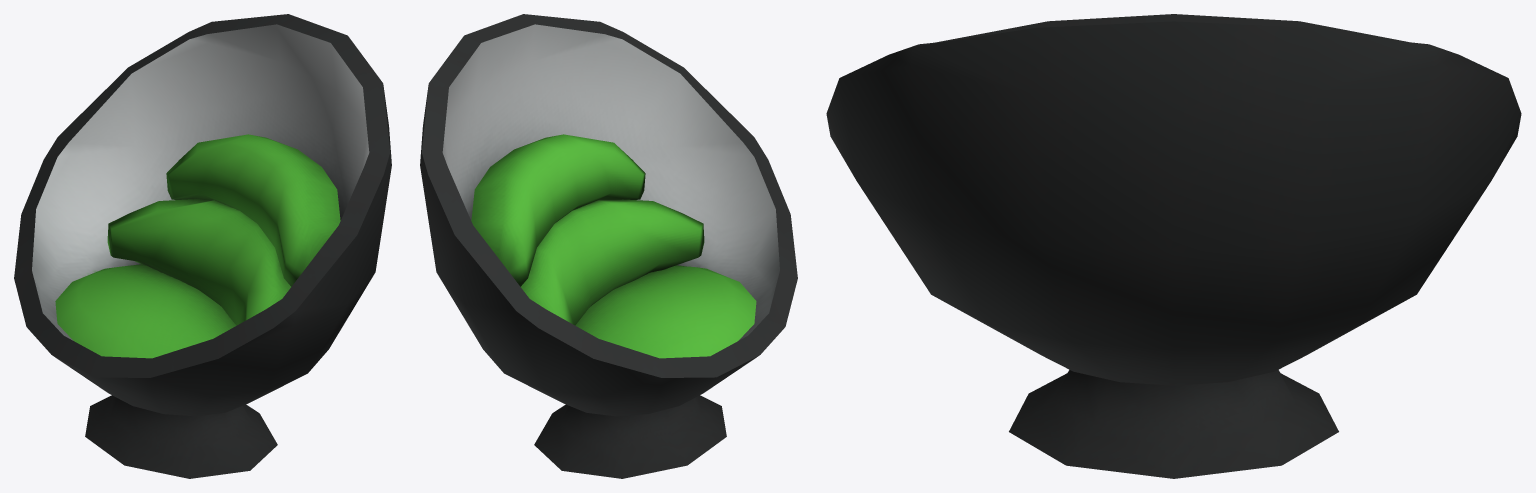
The model's file is Amphi100_Chair02.FBX.
The picture shows the model from 3 angles, left to right: view 1: azimuth 30°, elevation 25°; view 2: azimuth 150°, elevation 25°; view 3: azimuth 270°, elevation 25°; orthographic projection. The views are drawn at different scales.
Parts seen in each view (by area): view 1: Amphi100_Chair01; view 2: Amphi100_Chair01; view 3: Amphi100_Chair01.
Boxes of the visible parts, x1,y1,x2,y2 form: Amphi100_Chair01: (14, 14, 391, 478); Amphi100_Chair01: (420, 14, 797, 478); Amphi100_Chair01: (826, 14, 1521, 478).
Size of the model in its own units: 0.9259 by 1.04 by 1.26.
